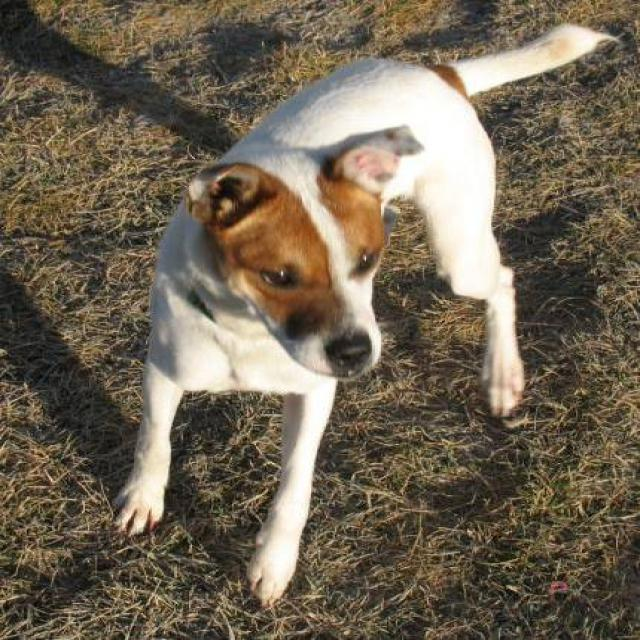dog: (28, 3, 619, 608)
